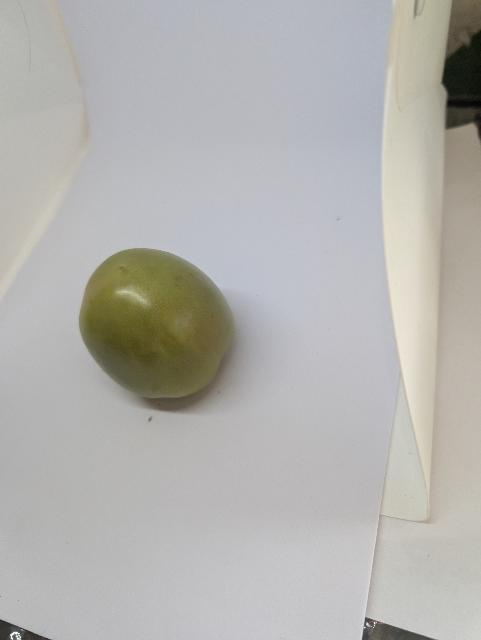green: (69, 238, 249, 409)
